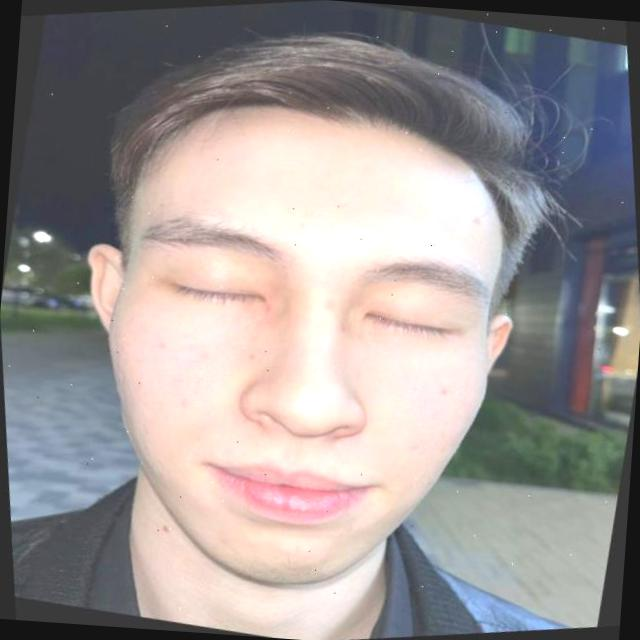acne: (401, 436, 421, 455), (258, 298, 276, 316), (437, 382, 453, 398), (335, 319, 349, 333)
